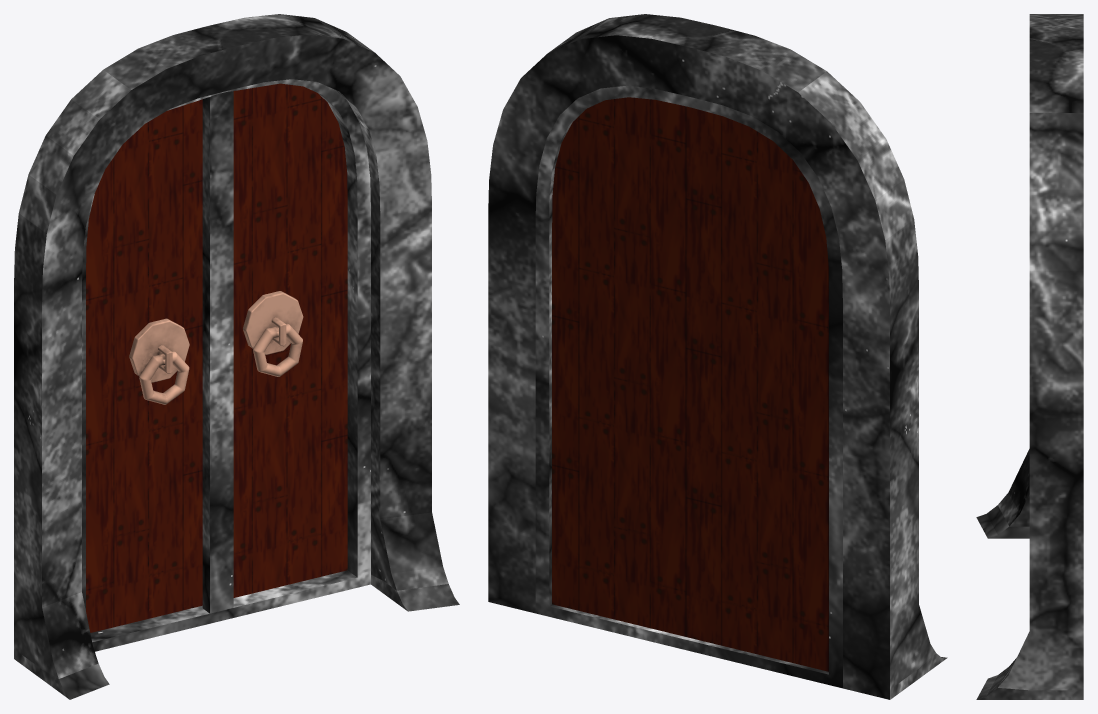
Rendered from ClosedDoor.fbx.
3 views of the same model, side by side, from view 1: azimuth 30°, elevation 25°; view 2: azimuth 150°, elevation 25°; view 3: azimuth 270°, elevation 25° (orthographic). The views are drawn at different scales.
Parts seen in each view (by area): view 1: Marco, Puerta2, Manija1, Manija2; view 2: Puerta2, Marco; view 3: Marco.
Boxes of the visible parts, x1,y1,x2,y2 form: Marco: (14, 14, 459, 699); Puerta2: (86, 83, 347, 632); Manija1: (129, 318, 189, 404); Manija2: (243, 291, 303, 376); Puerta2: (552, 97, 828, 671); Marco: (488, 14, 947, 699); Marco: (976, 14, 1083, 699).
Size of the model in its own units: 4.04 by 5.8 by 1.
